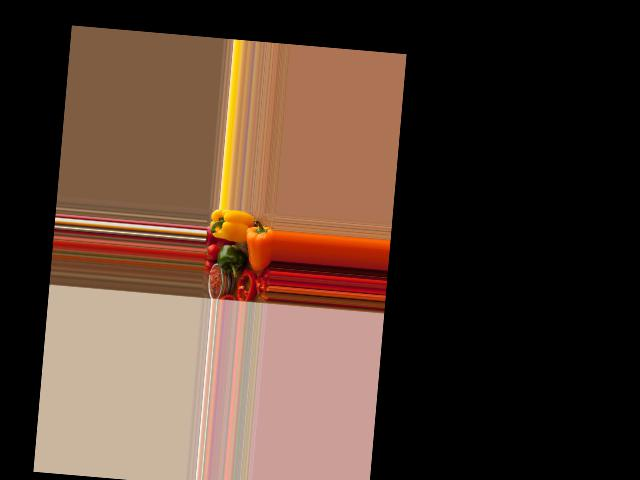bell_pepper: (209, 208, 247, 243)
